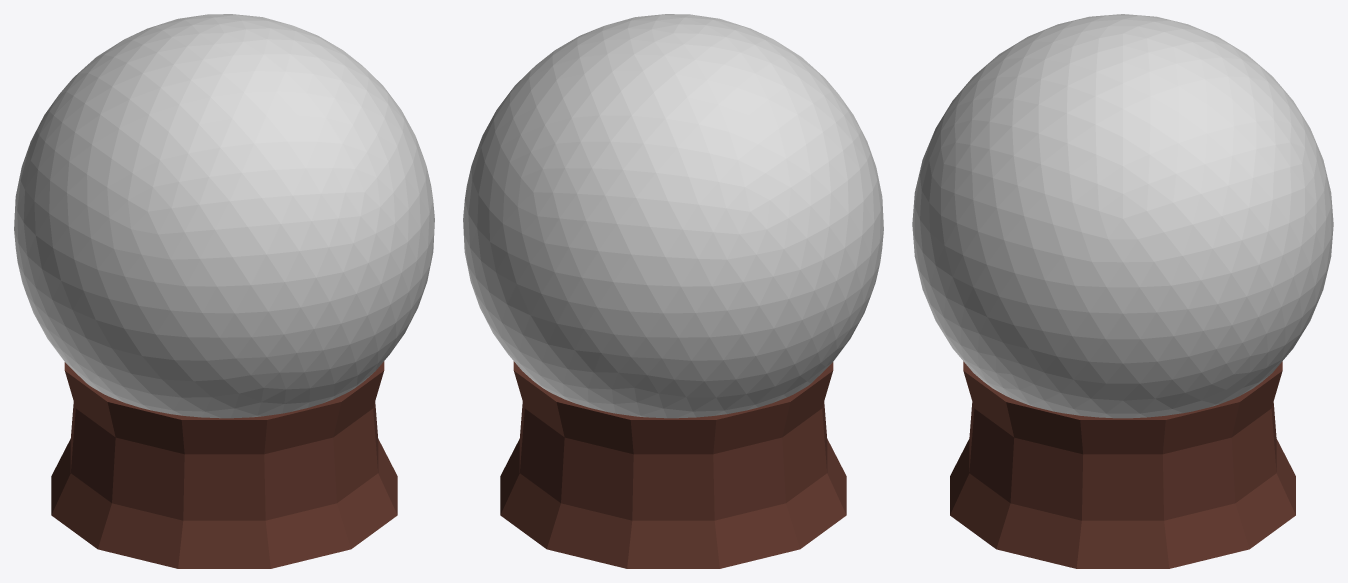
File: snow-globe.glb
3 renders of one model, left to right at view 1: azimuth 30°, elevation 25°; view 2: azimuth 150°, elevation 25°; view 3: azimuth 270°, elevation 25°, orthographic.
Parts seen in each view (by area): view 1: glass-ball, base; view 2: glass-ball, base; view 3: glass-ball, base.
Part boxes in pixels (bbox=[...]): glass-ball: bbox=[14, 14, 434, 418]; base: bbox=[51, 361, 397, 568]; glass-ball: bbox=[463, 14, 883, 418]; base: bbox=[500, 361, 846, 568]; glass-ball: bbox=[912, 14, 1333, 418]; base: bbox=[950, 361, 1295, 568].
Bounding box in the file's own units: 6 × 7.26 × 6.
